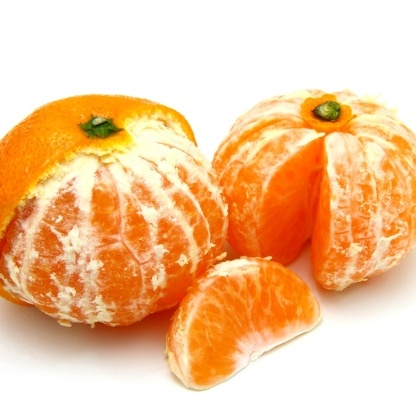mandarin: (1, 91, 223, 328), (210, 90, 416, 292), (165, 258, 322, 390)
